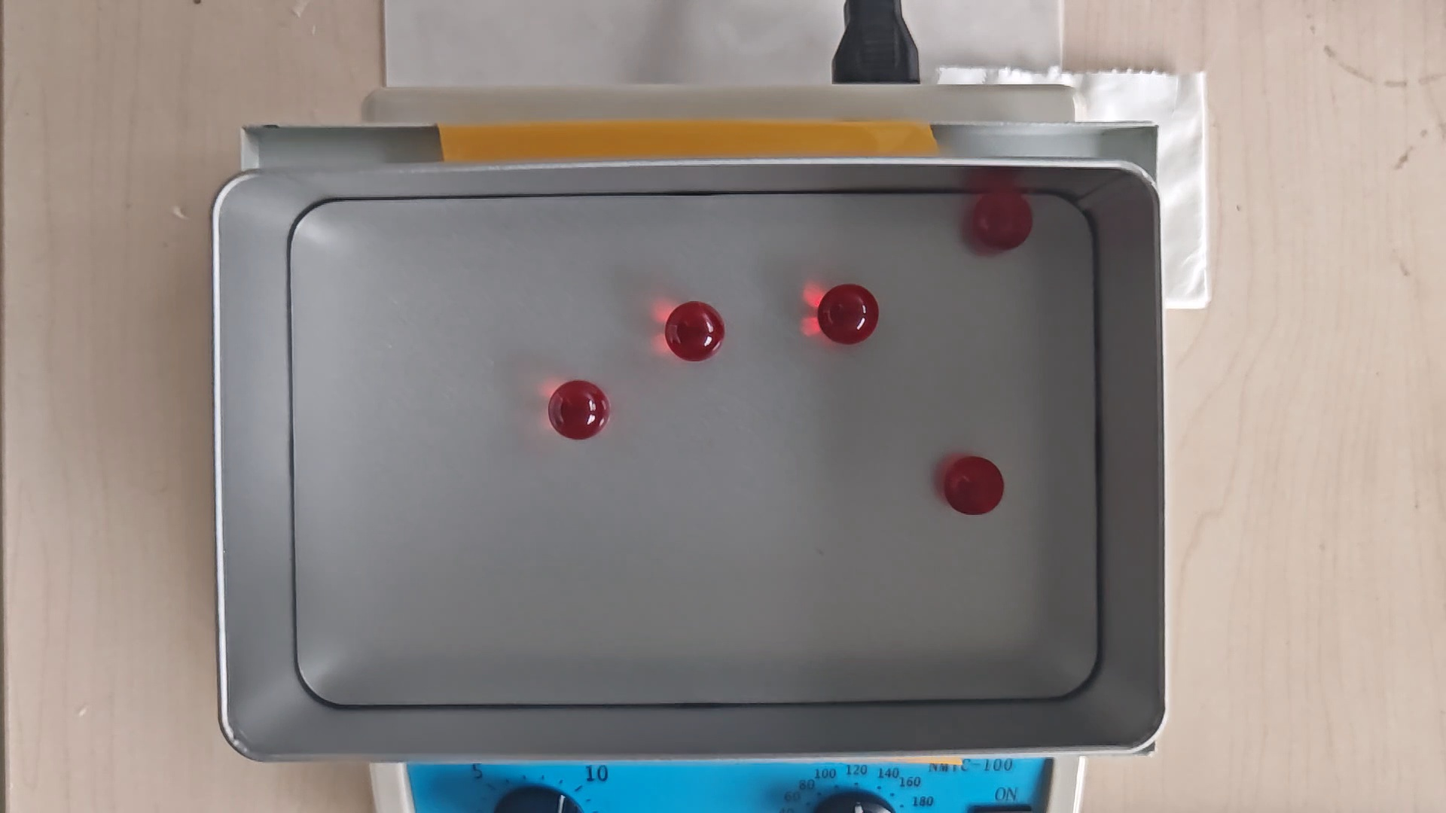ball: (944, 453, 1007, 516), (817, 285, 879, 348), (974, 190, 1033, 252), (550, 380, 608, 441), (664, 303, 725, 361)
container: (290, 191, 1100, 704)
